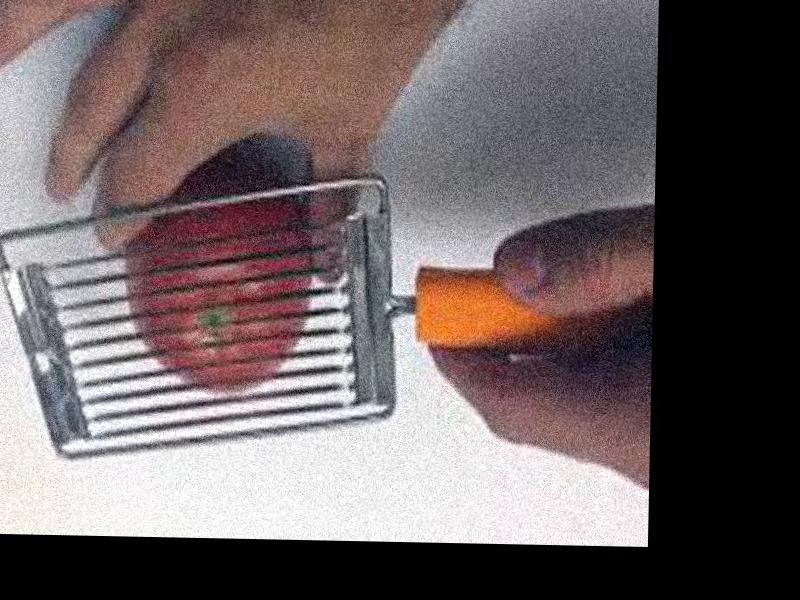Tomato: (128, 161, 317, 393)
